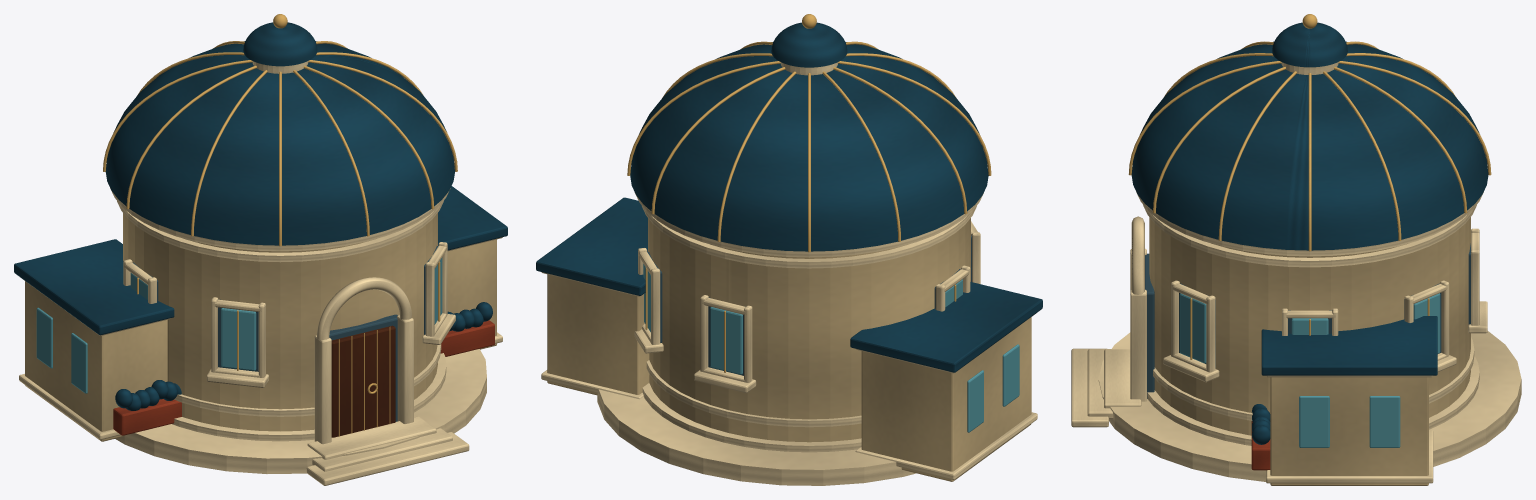
File: observatory.glb
3 renders of one model, left to right at view 1: azimuth 30°, elevation 25°; view 2: azimuth 150°, elevation 25°; view 3: azimuth 270°, elevation 25°, orthographic. The views are drawn at different scales.
Parts seen in each view (by area): view 1: Blue slate painted architecture, Ivory limewash architecture, Pale carved limestone architecture, Aged brass architecture, Honey cedar architecture, Sleeping turquoise glass architecture, Terracotta architecture, Window recess architecture; view 2: Blue slate painted architecture, Ivory limewash architecture, Pale carved limestone architecture, Aged brass architecture, Sleeping turquoise glass architecture, Window recess architecture; view 3: Blue slate painted architecture, Ivory limewash architecture, Pale carved limestone architecture, Aged brass architecture, Sleeping turquoise glass architecture, Window recess architecture, Terracotta architecture.
Part boxes in pixels (x1,y1,x2,y2): Blue slate painted architecture: [14, 22, 507, 410]; Ivory limewash architecture: [25, 213, 496, 441]; Pale carved limestone architecture: [19, 61, 502, 485]; Aged brass architecture: [103, 14, 457, 436]; Honey cedar architecture: [331, 325, 395, 437]; Sleeping turquoise glass architecture: [36, 257, 442, 393]; Terracotta architecture: [113, 320, 494, 435]; Window recess architecture: [133, 246, 438, 421]; Blue slate painted architecture: [536, 22, 1042, 372]; Ivory limewash architecture: [547, 218, 1031, 481]; Pale carved limestone architecture: [541, 62, 1037, 485]; Aged brass architecture: [627, 14, 991, 372]; Sleeping turquoise glass architecture: [643, 264, 1019, 432]; Window recess architecture: [647, 235, 971, 375]; Blue slate painted architecture: [1131, 22, 1488, 444]; Ivory limewash architecture: [1149, 217, 1470, 485]; Pale carved limestone architecture: [1071, 62, 1521, 483]; Aged brass architecture: [1128, 14, 1491, 359]; Sleeping turquoise glass architecture: [1179, 293, 1440, 447]; Window recess architecture: [1145, 243, 1470, 398]; Terracotta architecture: [1251, 421, 1270, 470].
Bounding box in the file's own units: 10.95 × 9.52 × 10.22.
Materials: 8 (5 with a texture image).
